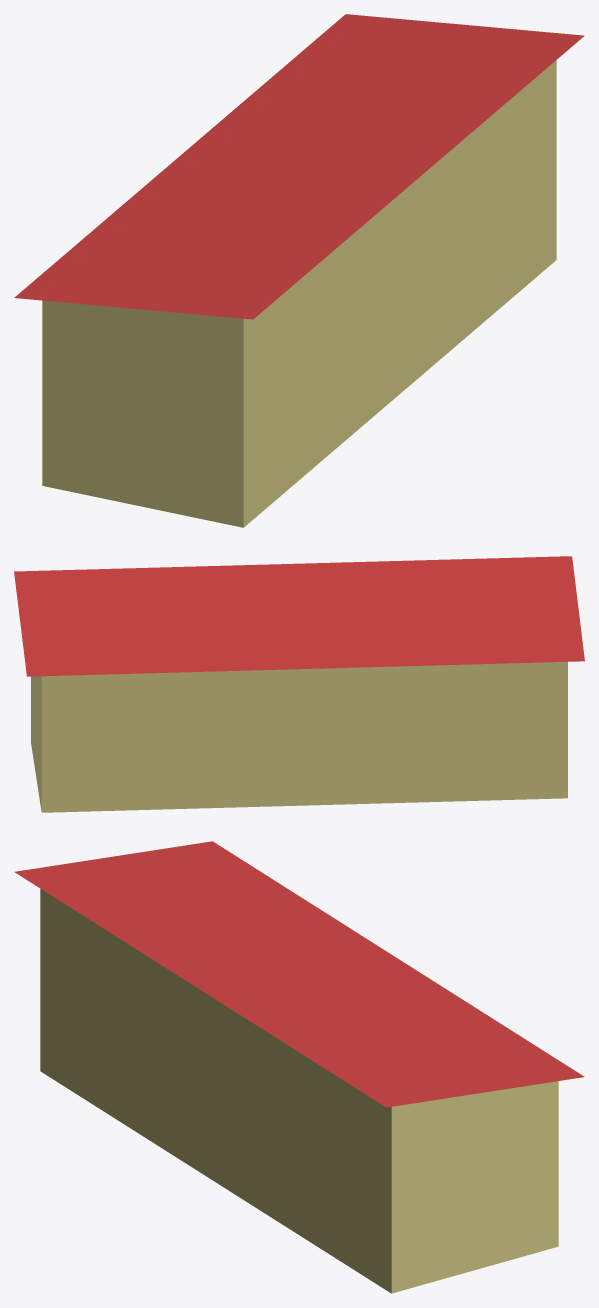
3 renders of one model, top to bottom at view 1: azimuth 30°, elevation 25°; view 2: azimuth 150°, elevation 25°; view 3: azimuth 270°, elevation 25°, orthographic. The views are drawn at different scales.
Size of the model in its own units: 18.15 by 15.01 by 5.72.
